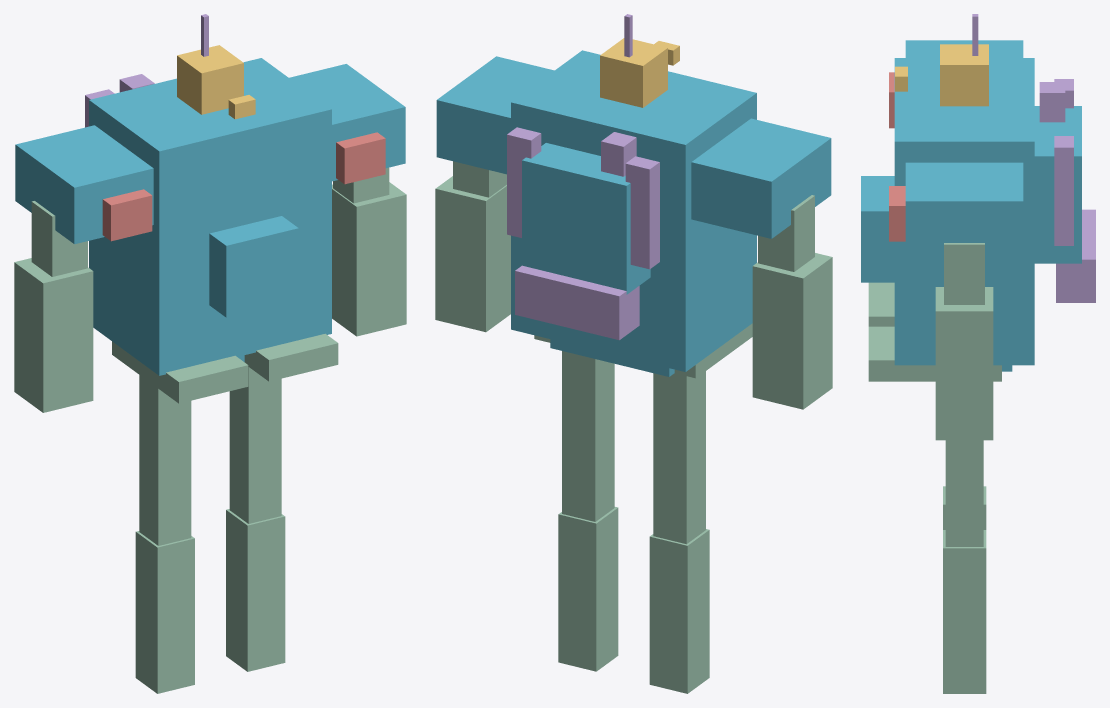
The model's file is mechfall_raven_rj.glb.
3 renders of one model, left to right at view 1: azimuth 30°, elevation 25°; view 2: azimuth 150°, elevation 25°; view 3: azimuth 270°, elevation 25°, orthographic.
Parts seen in each view (by area): view 1: TORSO HULL, FOREARM L, SHOULDER L, FOREARM R, UPPER LEG R, UPPER LEG L, LOWER LEG L, REACTOR CORE, LOWER LEG R, SHOULDER R, COCKPIT CANOPY, FOOT L (+5 smaller); view 2: TORSO HULL, EW BACKPACK, SHOULDER L, FOREARM L, FOREARM R, UPPER LEG L, UPPER LEG R, LOWER LEG L, LOWER LEG R, SHOULDER R, COCKPIT CANOPY, RADIATOR L (+10 smaller); view 3: TORSO HULL, SHOULDER R, FOREARM R, UPPER LEG R, EW BACKPACK, LOWER LEG R, REACTOR CORE, COCKPIT CANOPY, UPPER ARM R, FOOT R, RADIATOR R, THRUSTER 4 (+4 smaller).
Boxes of the visible parts, bbox=[...] form: TORSO HULL: bbox=[89, 58, 331, 375]; FOREARM L: bbox=[14, 258, 93, 412]; SHOULDER L: bbox=[15, 125, 153, 244]; FOREARM R: bbox=[332, 182, 406, 336]; UPPER LEG R: bbox=[226, 509, 285, 671]; UPPER LEG L: bbox=[135, 531, 194, 693]; LOWER LEG L: bbox=[139, 375, 191, 545]; REACTOR CORE: bbox=[209, 216, 298, 317]; LOWER LEG R: bbox=[229, 367, 281, 523]; SHOULDER R: bbox=[289, 64, 405, 181]; COCKPIT CANOPY: bbox=[177, 45, 243, 114]; FOOT L: bbox=[112, 341, 248, 403]; TORSO HULL: bbox=[511, 50, 756, 371]; EW BACKPACK: bbox=[522, 143, 650, 294]; SHOULDER L: bbox=[691, 118, 831, 238]; FOREARM L: bbox=[752, 253, 832, 409]; FOREARM R: bbox=[435, 176, 510, 332]; UPPER LEG L: bbox=[649, 529, 709, 693]; UPPER LEG R: bbox=[558, 507, 618, 671]; LOWER LEG L: bbox=[653, 371, 705, 544]; LOWER LEG R: bbox=[562, 351, 614, 521]; SHOULDER R: bbox=[436, 56, 554, 174]; COCKPIT CANOPY: bbox=[600, 38, 667, 107]; RADIATOR L: bbox=[625, 156, 659, 269]; TORSO HULL: bbox=[894, 58, 1034, 365]; SHOULDER R: bbox=[905, 162, 1023, 257]; FOREARM R: bbox=[935, 287, 993, 440]; UPPER LEG R: bbox=[943, 530, 986, 693]; EW BACKPACK: bbox=[1034, 106, 1081, 263]; LOWER LEG R: bbox=[945, 440, 983, 546]; REACTOR CORE: bbox=[861, 176, 894, 282]; COCKPIT CANOPY: bbox=[940, 44, 988, 106]; UPPER ARM R: bbox=[944, 243, 984, 304]; FOOT R: bbox=[868, 326, 1001, 381]; RADIATOR R: bbox=[1054, 136, 1073, 245]; THRUSTER 4: bbox=[1056, 244, 1095, 302].
Bounding box in the file's own units: 4.24 × 7.25 × 2.38.
